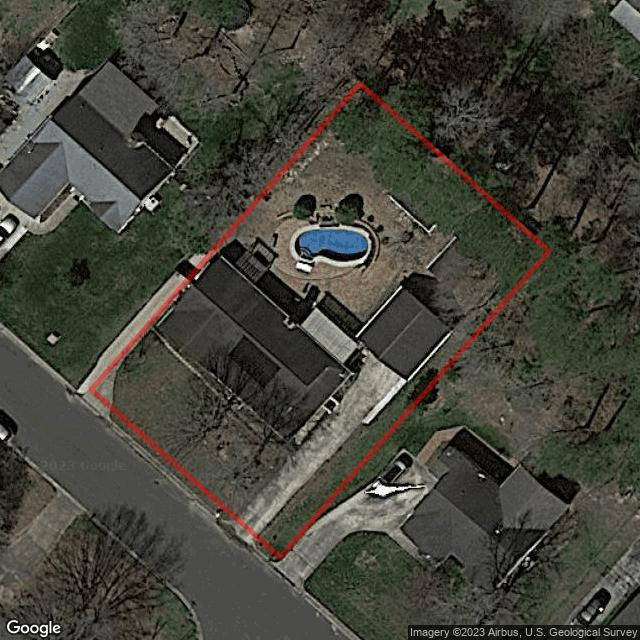Driveway: (242, 350, 405, 532)
Extra Driveway: (229, 522, 253, 545)
Extra Lawn: (109, 408, 233, 525)
House: (194, 239, 352, 385), (360, 290, 449, 378)
